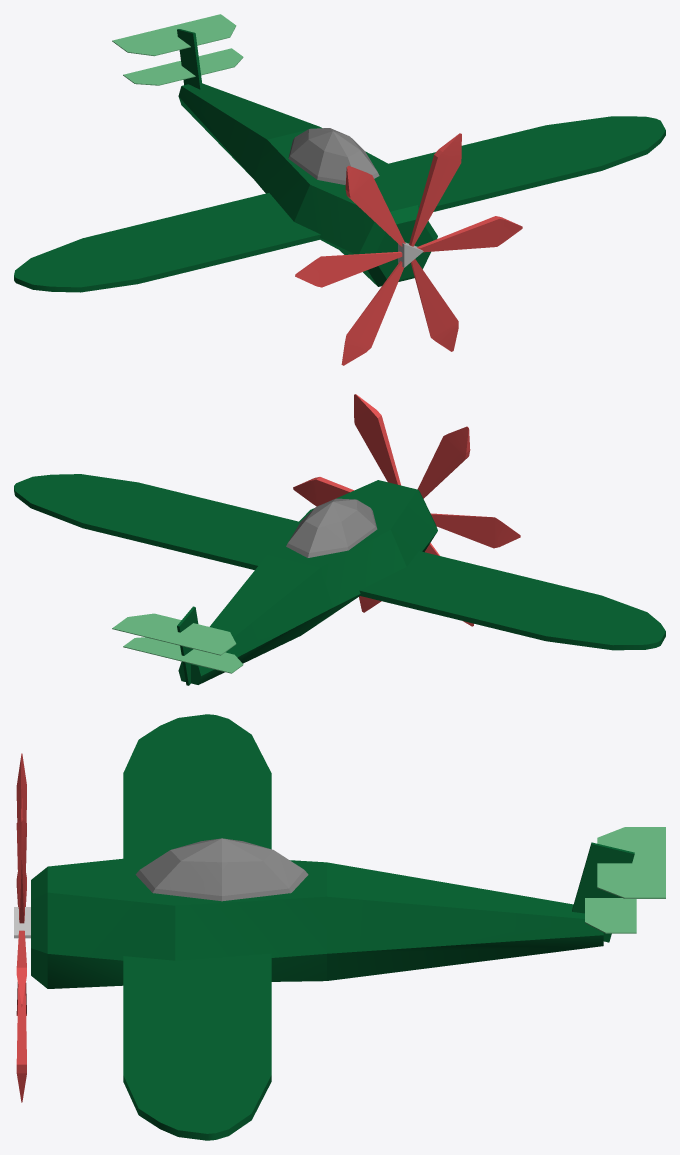
Rendered from WarMachine (1).fbx.
The picture shows the model from 3 angles, top to bottom: view 1: azimuth 30°, elevation 25°; view 2: azimuth 150°, elevation 25°; view 3: azimuth 270°, elevation 25°; orthographic projection. The views are drawn at different scales.
Visible parts, largest first — view 1: WaMachine, canh_quat; view 2: WaMachine, canh_quat; view 3: WaMachine, canh_quat.
Part boxes in pixels (left/top/right/bottom): WaMachine: left=14, top=14, right=665, bottom=292; canh_quat: left=295, top=133, right=522, bottom=365; WaMachine: left=14, top=474, right=665, bottom=685; canh_quat: left=293, top=394, right=520, bottom=626; WaMachine: left=31, top=714, right=665, bottom=1140; canh_quat: left=14, top=753, right=30, bottom=1102.
Bounding box in the file's own units: 1946 × 625 × 1278.
